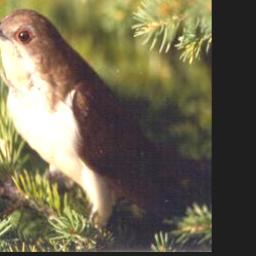Cuckoo: (0, 6, 202, 230)
